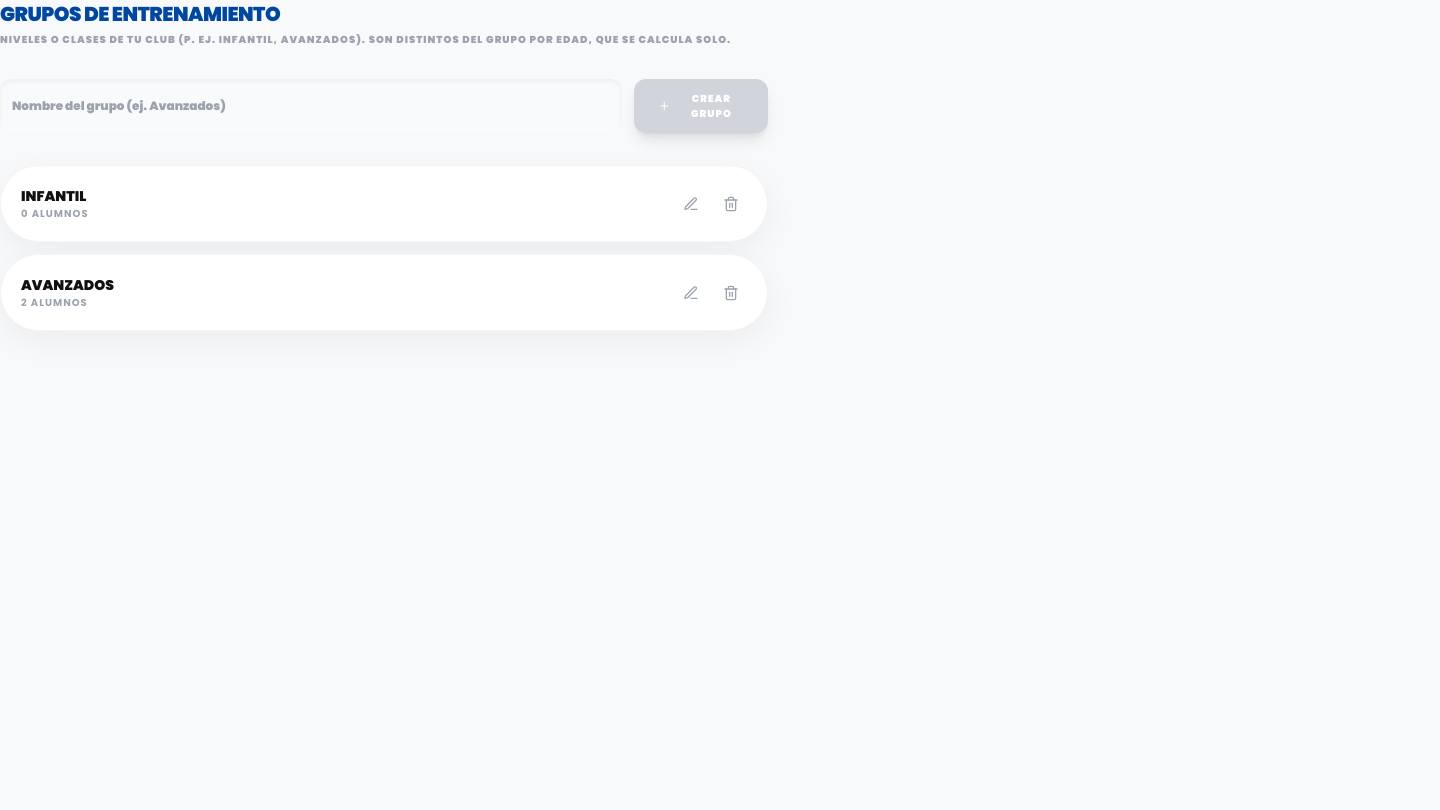
Scenario: GestionGruposEntrenamiento › al eliminar un grupo vacío no menciona alumnos
Click the button named "Eliminar Infantil".
click(731, 204)  # box [715, 188, 747, 220]
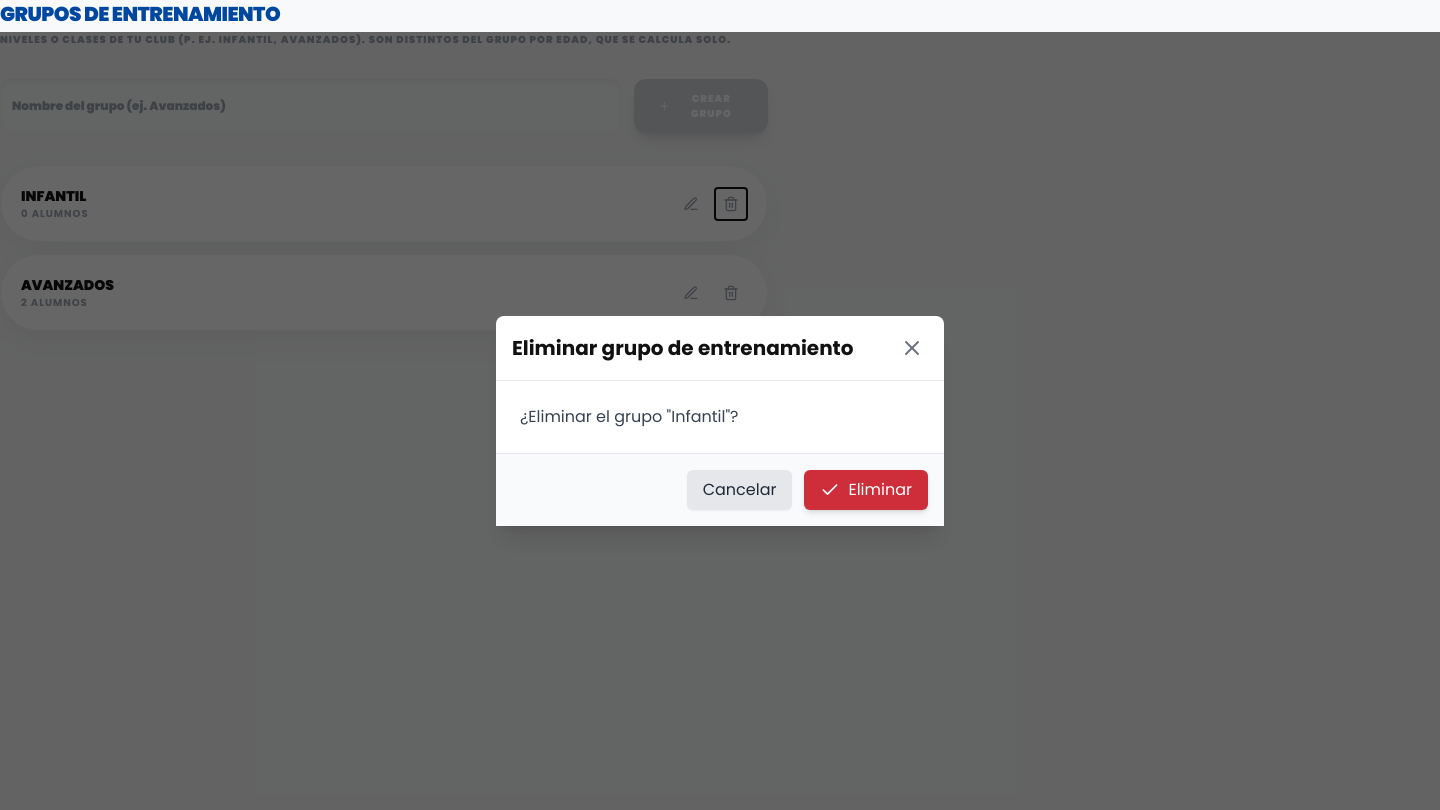
Result: the text "¿Eliminar el grupo \"Infantil\"?" is shown at [520, 405, 738, 428]
